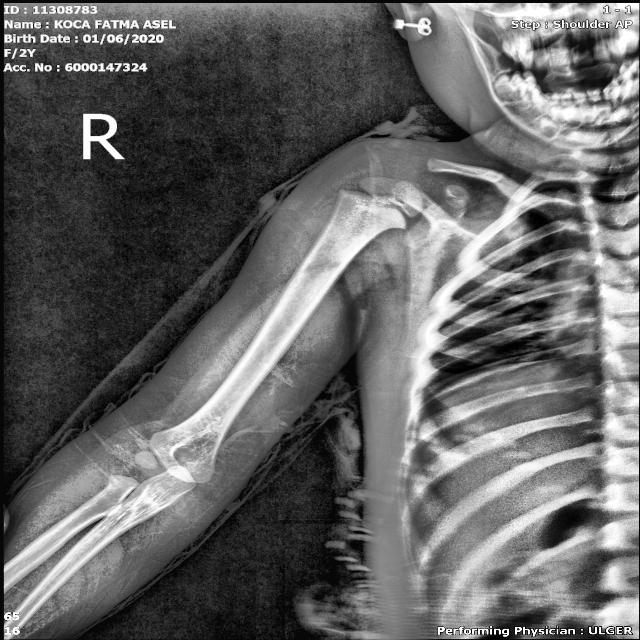Fracture: (352, 190, 418, 220)
